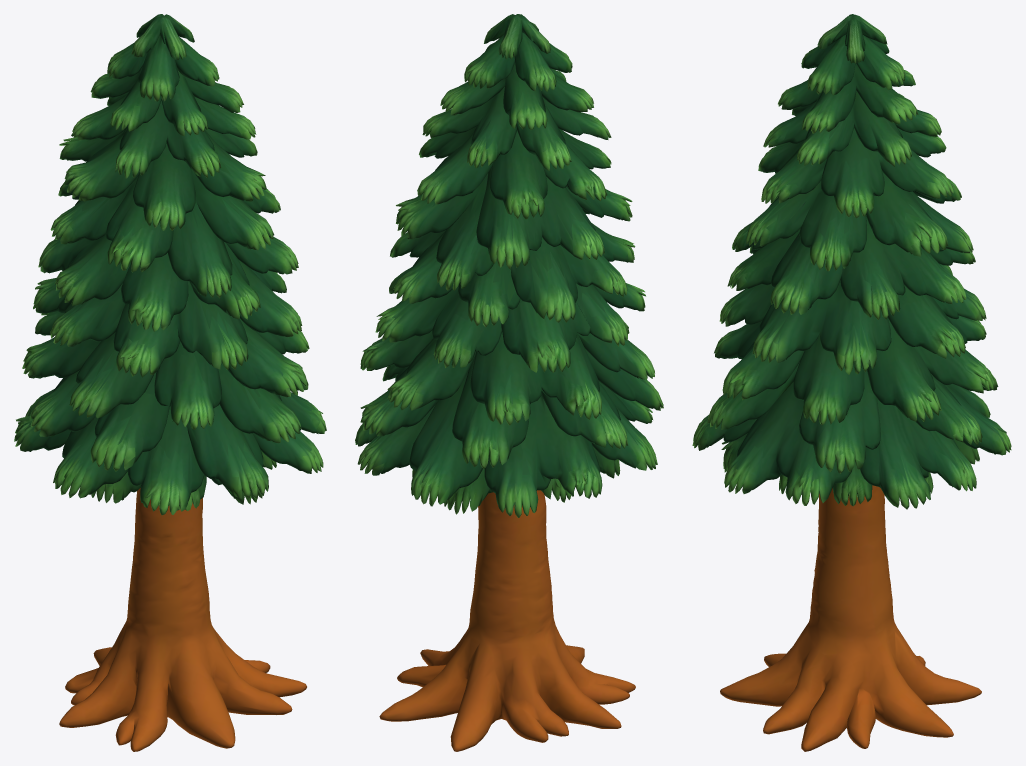
The model's file is tree_pine.glb.
The picture shows the model from 3 angles, left to right: view 1: azimuth 30°, elevation 25°; view 2: azimuth 150°, elevation 25°; view 3: azimuth 270°, elevation 25°; orthographic projection.
Visible parts, largest first — view 1: tripo_node_f86cd664-3542-4aa2-ba8d-173a7cef4448; view 2: tripo_node_f86cd664-3542-4aa2-ba8d-173a7cef4448; view 3: tripo_node_f86cd664-3542-4aa2-ba8d-173a7cef4448.
Boxes of the visible parts, bbox=[...] form: tripo_node_f86cd664-3542-4aa2-ba8d-173a7cef4448: bbox=[14, 14, 326, 751]; tripo_node_f86cd664-3542-4aa2-ba8d-173a7cef4448: bbox=[355, 14, 663, 751]; tripo_node_f86cd664-3542-4aa2-ba8d-173a7cef4448: bbox=[692, 14, 1011, 751].
Size of the model in its own units: 2.17 by 5.5 by 2.32.
Materials: 1 (1 with a texture image).
